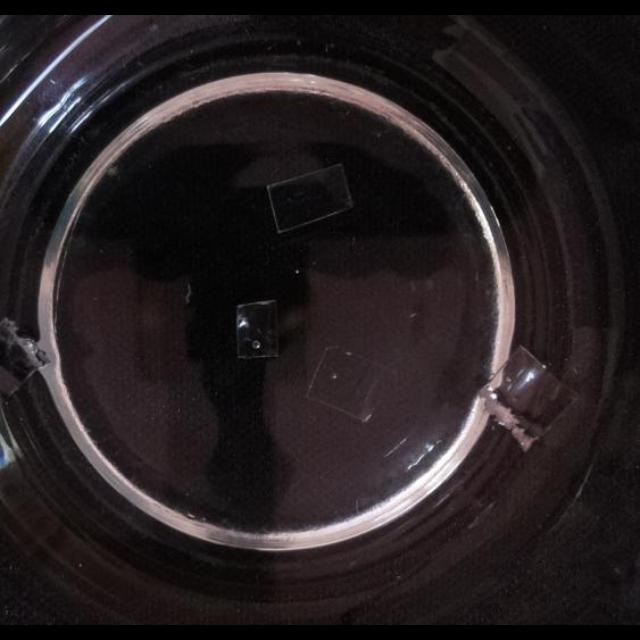Film: (477, 348, 578, 448), (262, 160, 358, 234), (304, 343, 390, 423), (0, 313, 50, 398), (233, 299, 280, 359)
